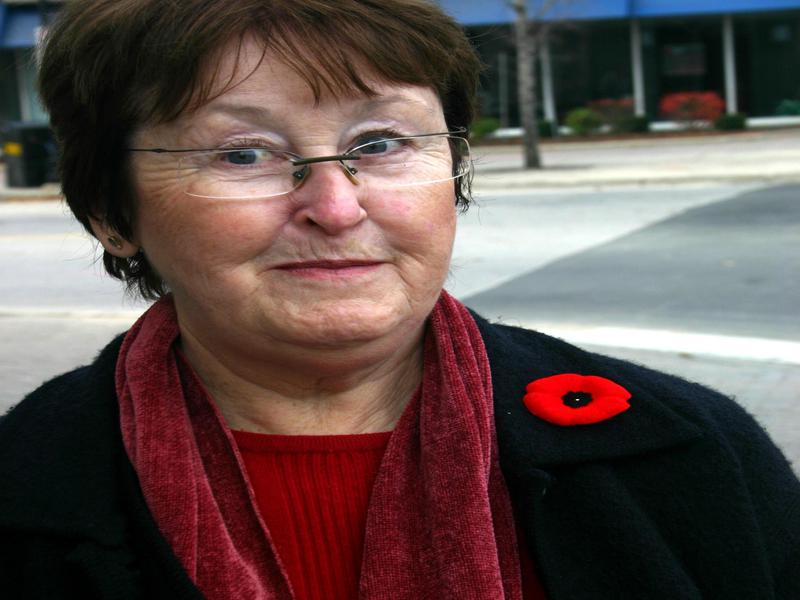person: (1, 2, 785, 596)
